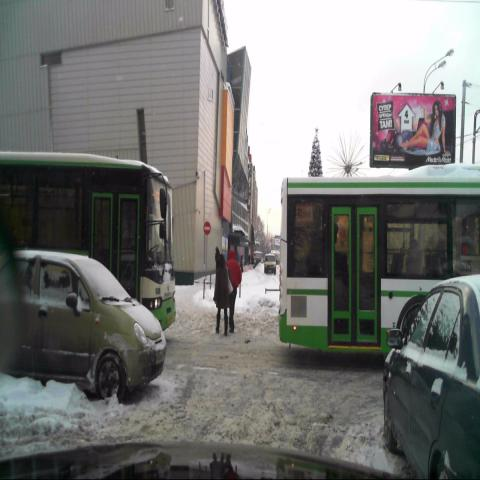3_1: (204, 221, 210, 236)
